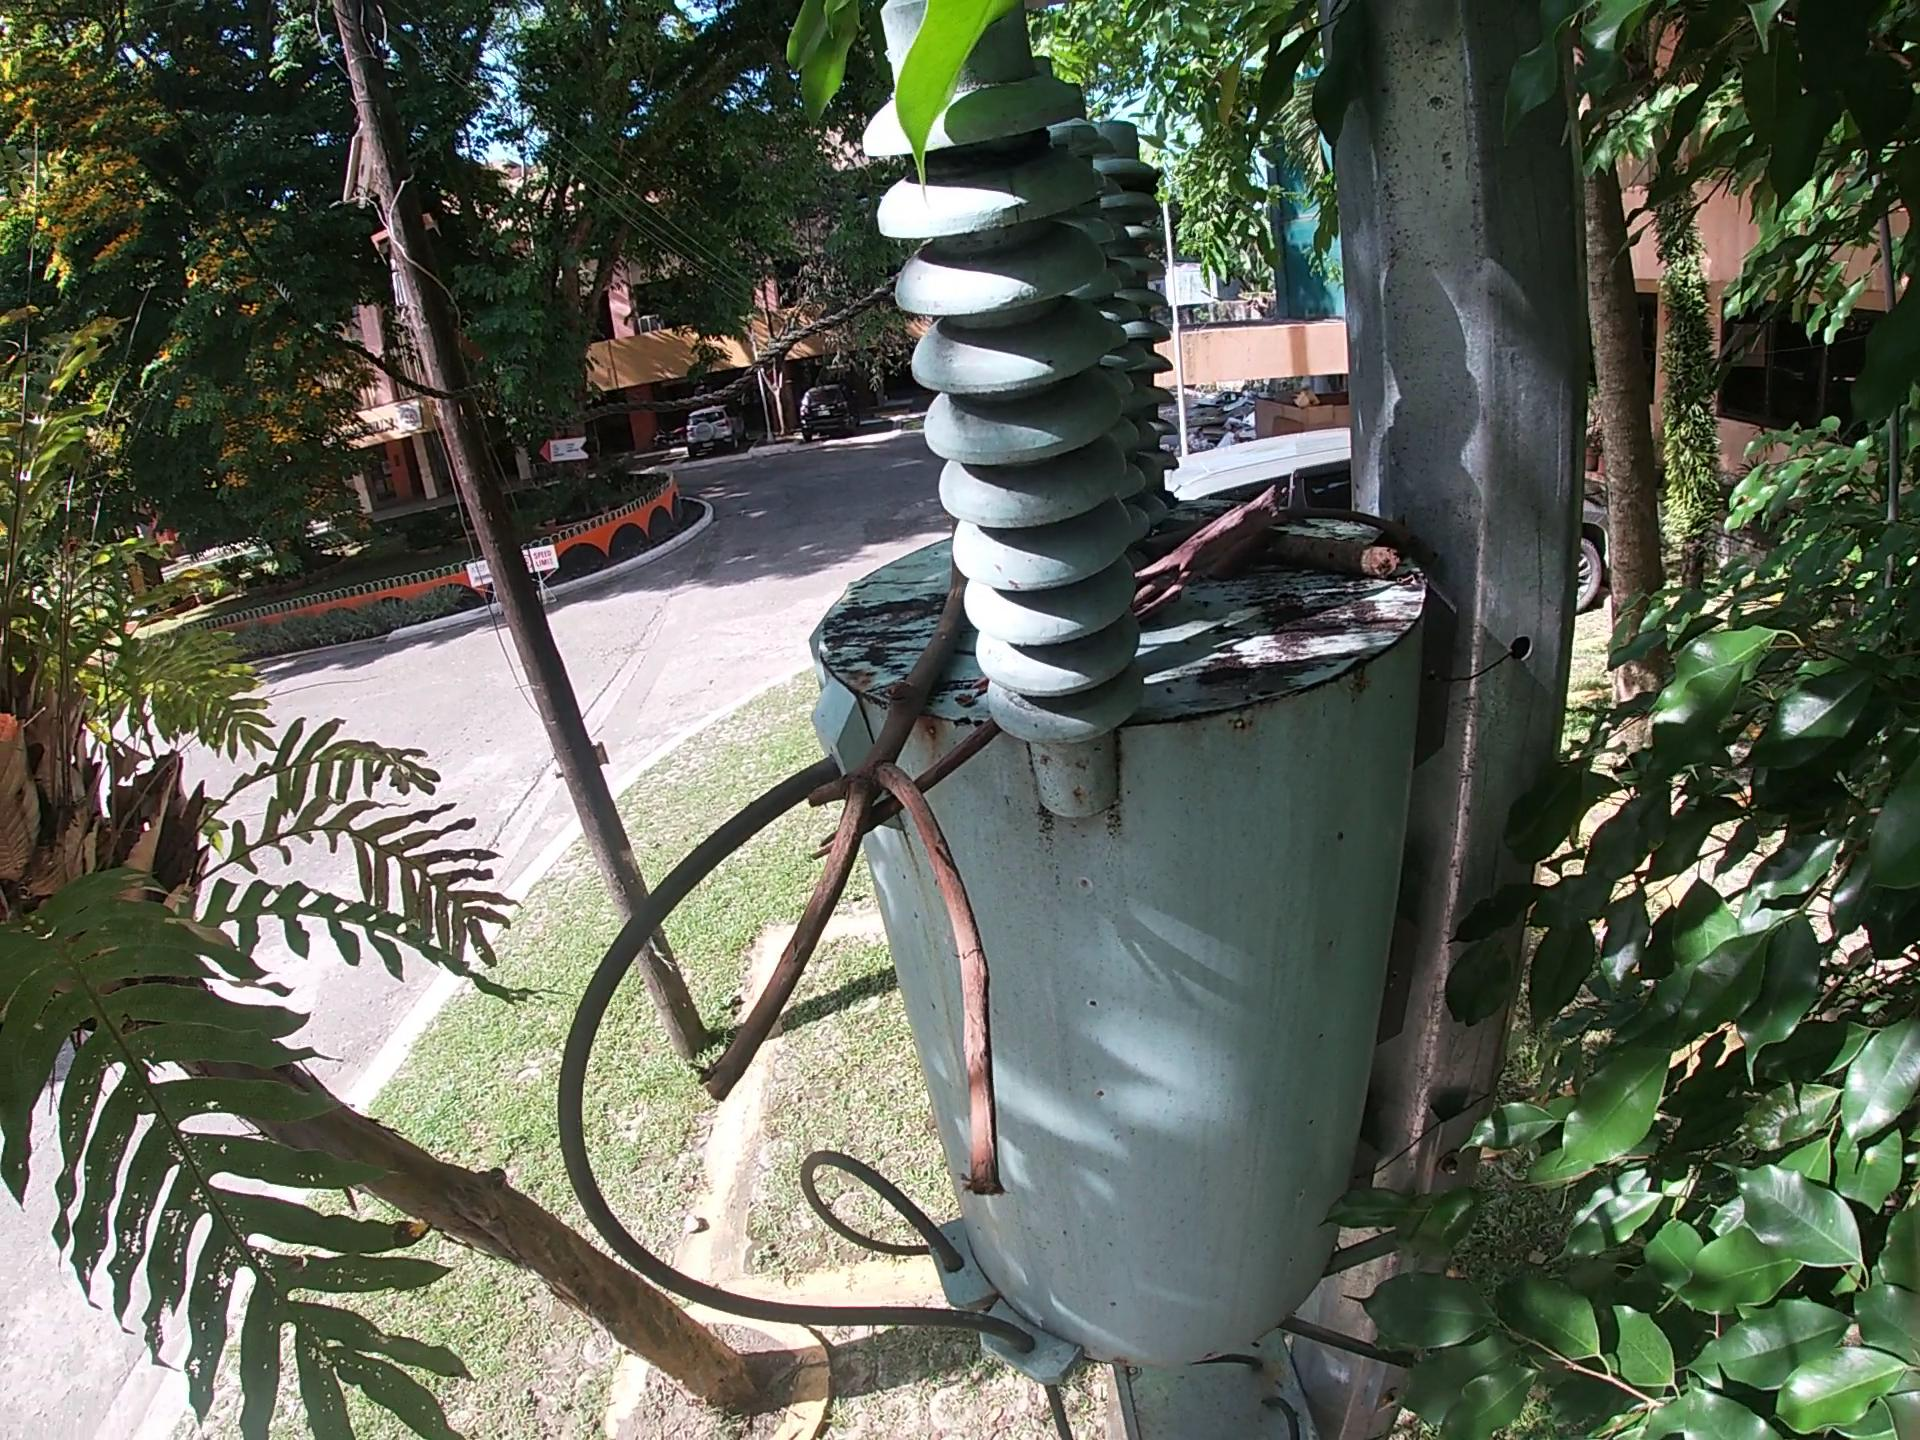leaf: (1371, 519, 1420, 551)
tree branch: (632, 526, 1033, 1243), (806, 714, 999, 856), (1134, 475, 1302, 625), (1240, 537, 1427, 579), (1138, 510, 1229, 564), (1282, 507, 1409, 543), (835, 629, 977, 658), (945, 678, 992, 705)
